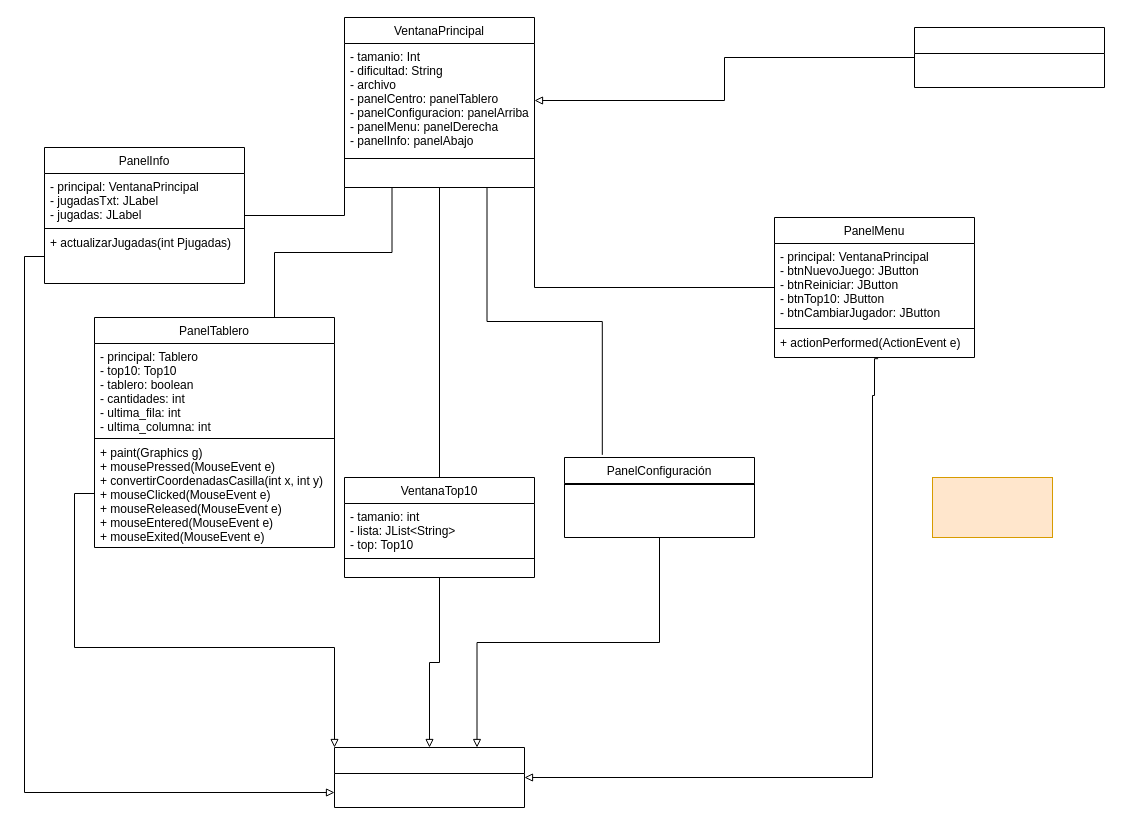
Some shapes in this 1122 by 825 pixel diagram are drawn without their labels. The centre of each missing label's shape, as x and y in pixels:
"JFrame" belongs at pixel 1009 57.
"JPanel" belongs at pixel 429 777.
"los puntajes se actualizan al cerrar la aplicacion" belongs at pixel 992 507.
